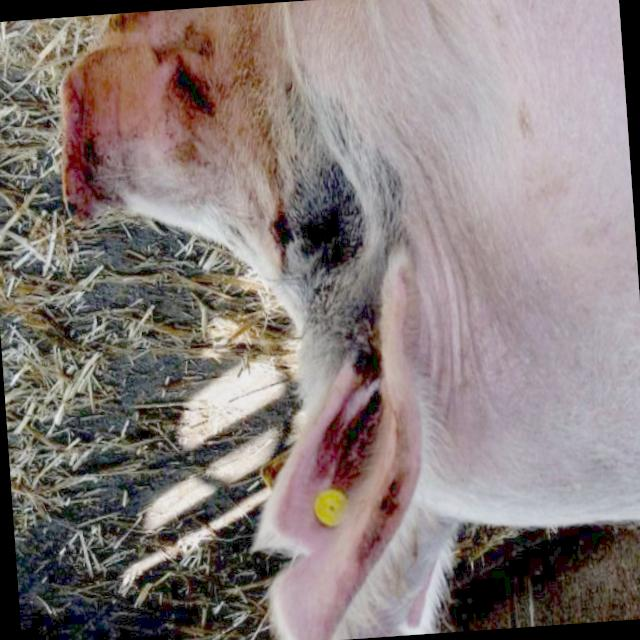pig: (62, 0, 640, 640)
